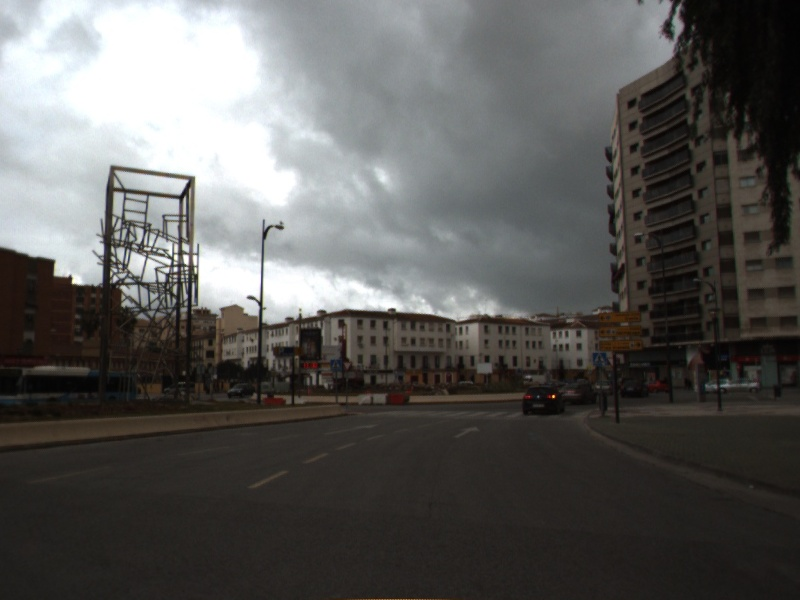STRAIGHT: (322, 422, 381, 437), (451, 424, 482, 440)
